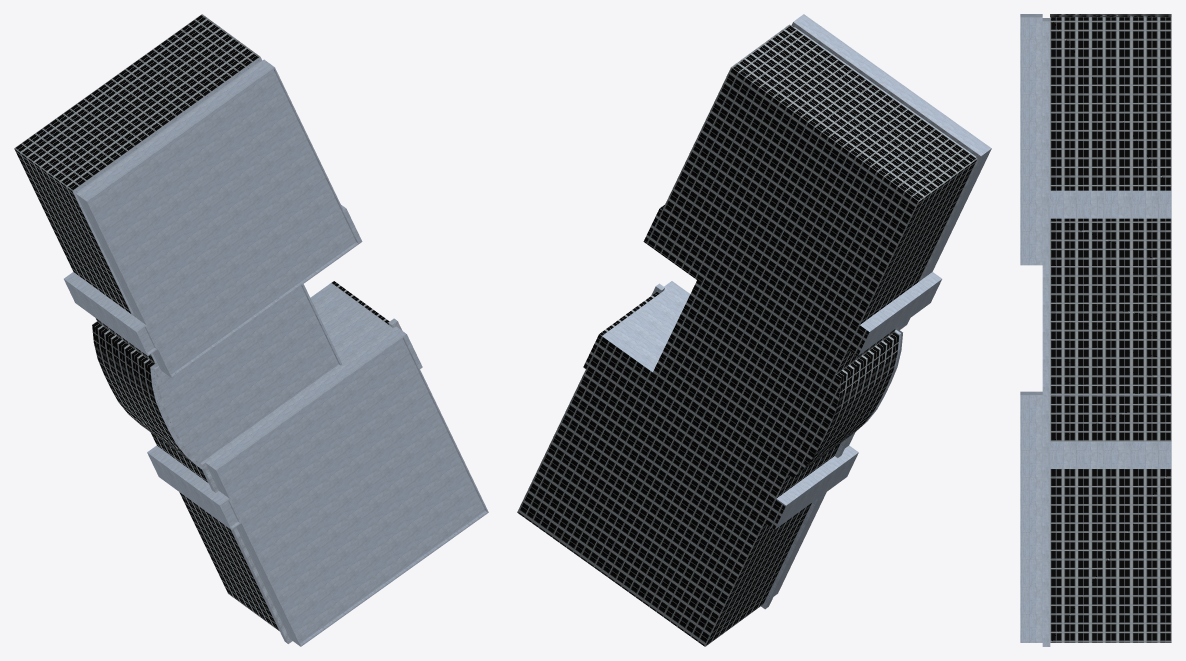
File: Transition_3D.glb
3 renders of one model, left to right at view 1: azimuth 30°, elevation 25°; view 2: azimuth 150°, elevation 25°; view 3: azimuth 270°, elevation 25°, orthographic. The views are drawn at different scales.
Visible parts, largest first — view 1: Cube.001; view 2: Cube.001; view 3: Cube.001.
Boxes of the visible parts, x1,y1,x2,y2 form: Cube.001: (14, 14, 488, 646); Cube.001: (517, 14, 991, 646); Cube.001: (1020, 14, 1171, 646).
Size of the model in its own units: 119 by 165 by 36.89.
Materials: 2 (2 with a texture image).
